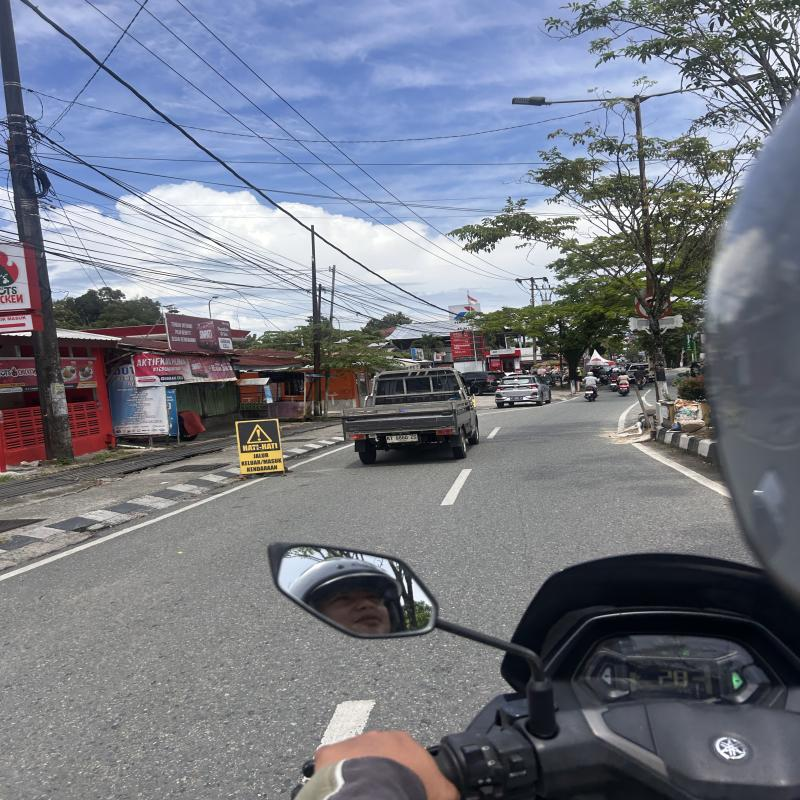license plate on a car: (386, 434, 420, 444), (510, 397, 523, 400)
